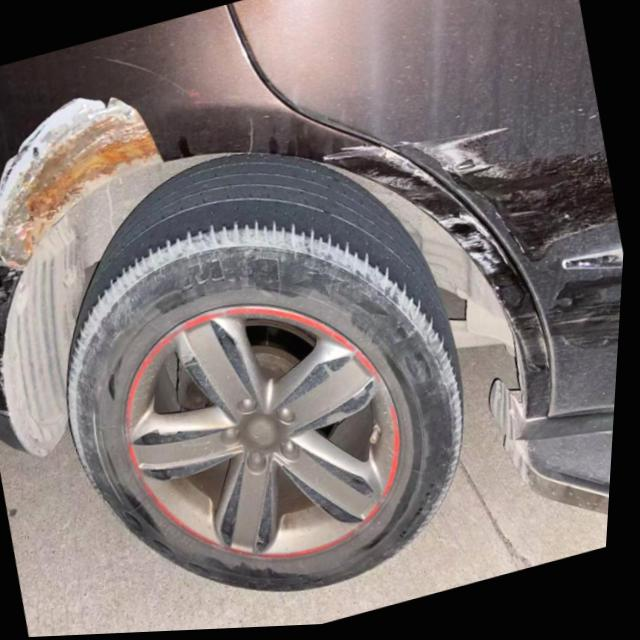Rust: (0, 96, 160, 266)
Scratch: (324, 142, 519, 288), (433, 129, 554, 262)
